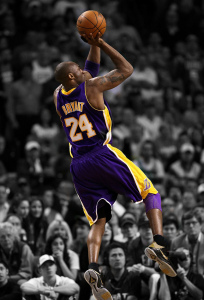ball: (77, 10, 106, 39)
